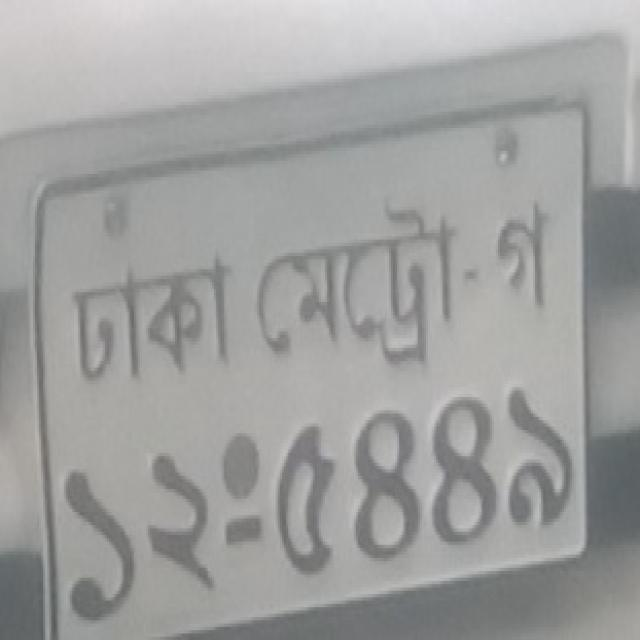numberplate: (3, 33, 626, 637)
